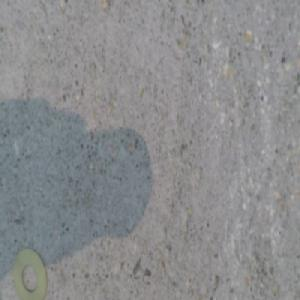Washer: (12, 249, 48, 299)
